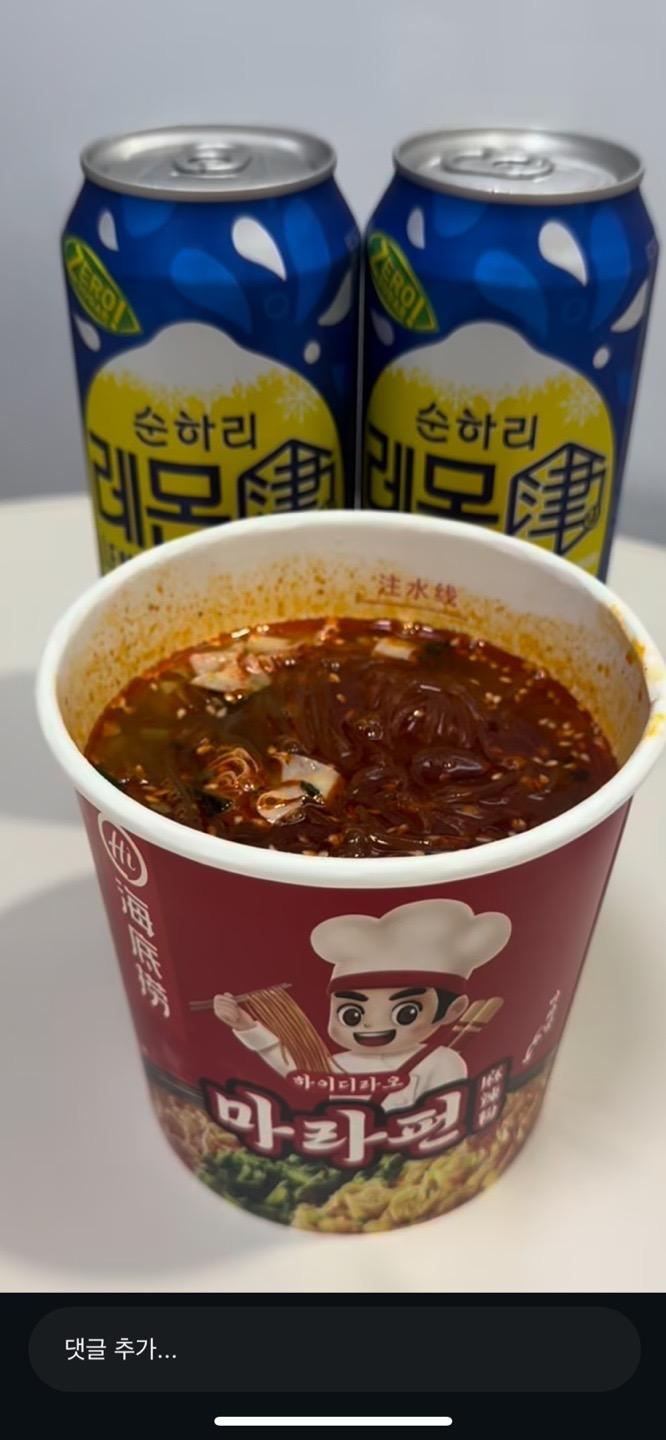Bottle: (62, 124, 359, 572), (362, 128, 657, 578)
cup: (39, 514, 663, 1236)
